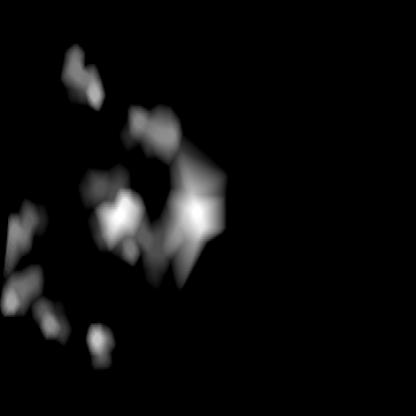fingers: (56, 40, 105, 110)
palm: (5, 202, 109, 366)
thumb: (85, 106, 213, 285)
